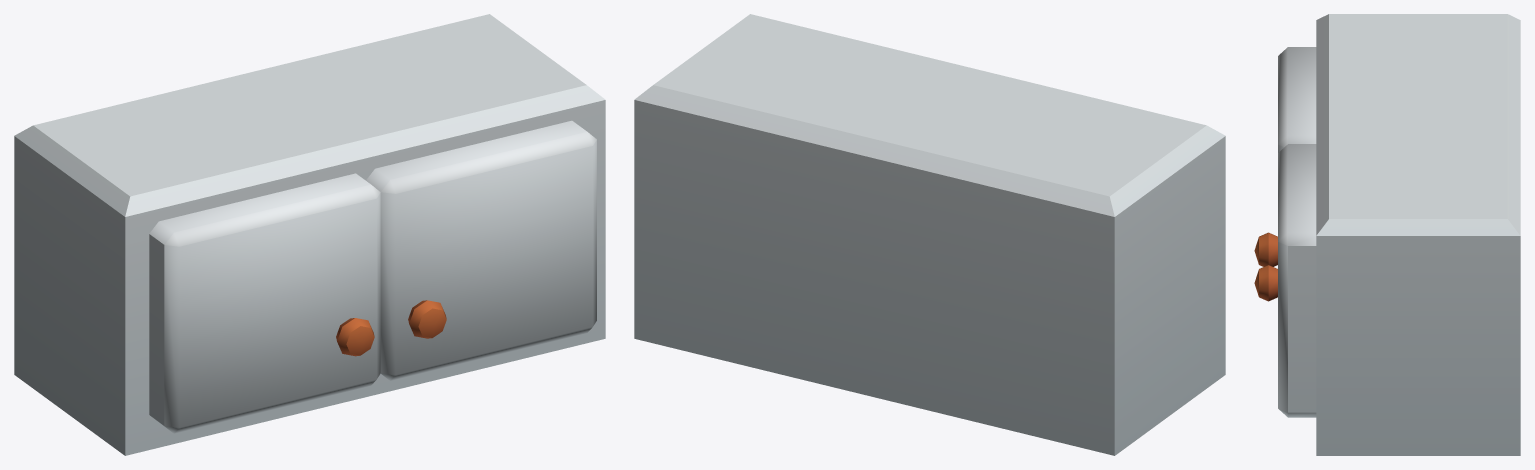
The model's file is kay-kitchencabinet_half.glb.
3 renders of one model, left to right at view 1: azimuth 30°, elevation 25°; view 2: azimuth 150°, elevation 25°; view 3: azimuth 270°, elevation 25°, orthographic. The views are drawn at different scales.
Visible parts, largest first — view 1: kitchencabinet_half; view 2: kitchencabinet_half; view 3: kitchencabinet_half.
Boxes of the visible parts, <box> form: kitchencabinet_half: <box>14,14,605,455</box>; kitchencabinet_half: <box>634,14,1225,455</box>; kitchencabinet_half: <box>1254,14,1520,455</box>.
Size of the model in its own units: 1.6 by 0.8 by 0.8335.
Materials: 1 (1 with a texture image).
